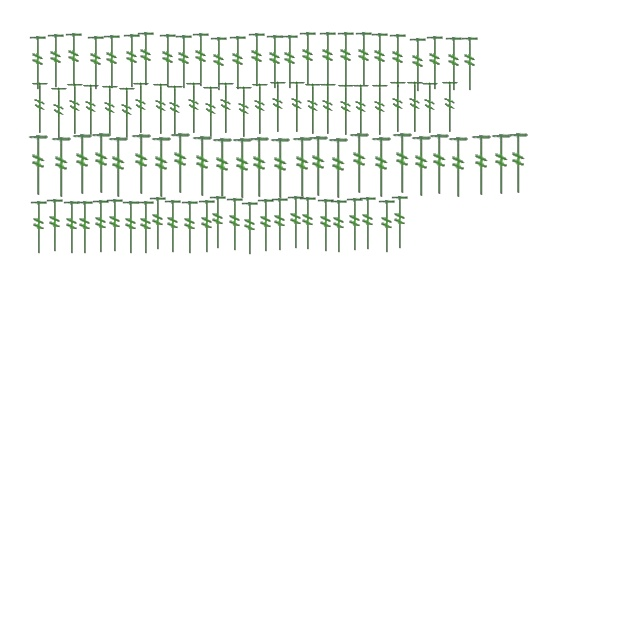fan: (27, 134, 49, 198), (50, 136, 72, 200), (90, 132, 112, 196), (107, 136, 129, 200), (150, 136, 172, 200), (169, 132, 191, 196), (248, 136, 270, 200), (291, 136, 313, 200), (348, 132, 370, 196), (370, 136, 392, 200), (391, 132, 413, 196), (447, 136, 469, 200), (470, 134, 492, 198), (507, 132, 529, 196), (71, 134, 93, 196), (130, 134, 152, 196), (191, 136, 213, 198), (211, 138, 233, 200), (231, 138, 253, 200), (269, 138, 291, 200), (307, 136, 329, 198), (327, 138, 349, 200), (410, 136, 432, 198), (428, 134, 450, 196), (490, 134, 512, 196), (28, 35, 48, 91), (46, 33, 66, 89), (64, 32, 84, 88), (86, 35, 106, 91), (102, 34, 122, 90), (122, 33, 142, 89), (136, 31, 156, 87), (158, 33, 178, 89), (174, 34, 194, 90), (228, 35, 248, 91), (280, 34, 300, 90), (298, 31, 318, 87), (318, 31, 338, 87), (336, 31, 356, 87), (354, 31, 374, 87), (370, 32, 390, 88), (388, 33, 408, 89), (408, 37, 428, 93), (444, 36, 464, 92), (460, 36, 480, 92), (30, 80, 50, 136), (49, 85, 69, 141), (65, 81, 85, 137), (81, 82, 101, 138), (100, 83, 120, 139), (117, 85, 137, 141), (131, 80, 151, 136), (151, 81, 171, 137), (165, 83, 185, 139), (184, 80, 204, 136), (201, 84, 221, 140), (216, 80, 236, 136), (234, 84, 254, 140), (250, 81, 270, 137), (268, 79, 288, 135), (287, 79, 307, 135), (303, 81, 323, 137), (318, 81, 338, 137), (336, 82, 356, 138), (351, 82, 371, 138), (370, 82, 390, 138), (388, 79, 408, 135), (405, 79, 425, 135), (420, 80, 440, 136), (440, 79, 460, 135), (62, 200, 82, 256), (136, 200, 156, 256), (148, 196, 168, 252), (180, 200, 200, 256), (256, 198, 276, 254), (298, 196, 318, 252), (316, 198, 336, 254), (358, 196, 378, 252), (208, 196, 228, 250), (240, 202, 260, 256), (270, 198, 290, 252), (286, 196, 306, 250), (390, 196, 410, 250), (192, 32, 210, 88), (210, 36, 228, 92), (248, 32, 266, 88), (266, 34, 284, 90), (426, 35, 444, 91), (30, 200, 48, 256), (46, 198, 64, 254), (76, 200, 94, 256), (106, 198, 124, 254), (122, 200, 140, 256), (92, 200, 110, 254), (164, 200, 182, 254), (198, 200, 216, 254), (226, 198, 244, 252), (330, 200, 348, 254), (346, 198, 364, 252), (378, 200, 396, 254)
